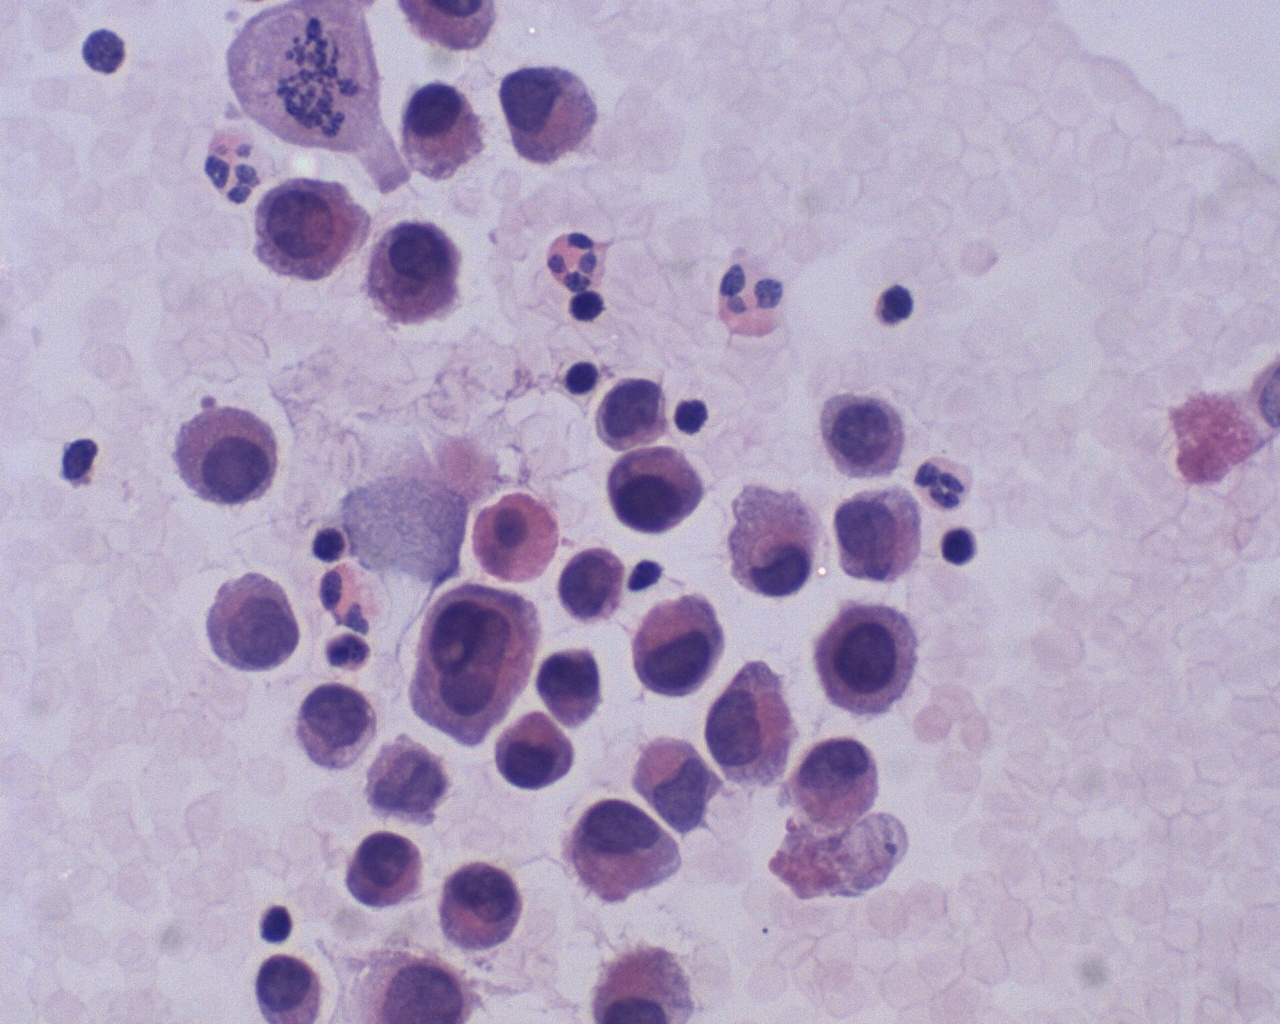ab: (398, 574, 548, 747), (566, 794, 696, 908), (811, 597, 926, 722), (193, 565, 311, 684), (243, 173, 365, 287), (490, 60, 612, 169), (622, 589, 742, 698), (827, 478, 935, 592), (703, 660, 800, 786), (592, 442, 709, 538), (806, 386, 920, 483), (371, 213, 466, 324), (433, 853, 533, 956), (287, 683, 379, 774), (531, 642, 607, 732), (554, 545, 630, 629)
lymph: (559, 352, 605, 399)
meso: (166, 403, 292, 515), (397, 80, 487, 183)
neutro: (537, 226, 618, 294)
